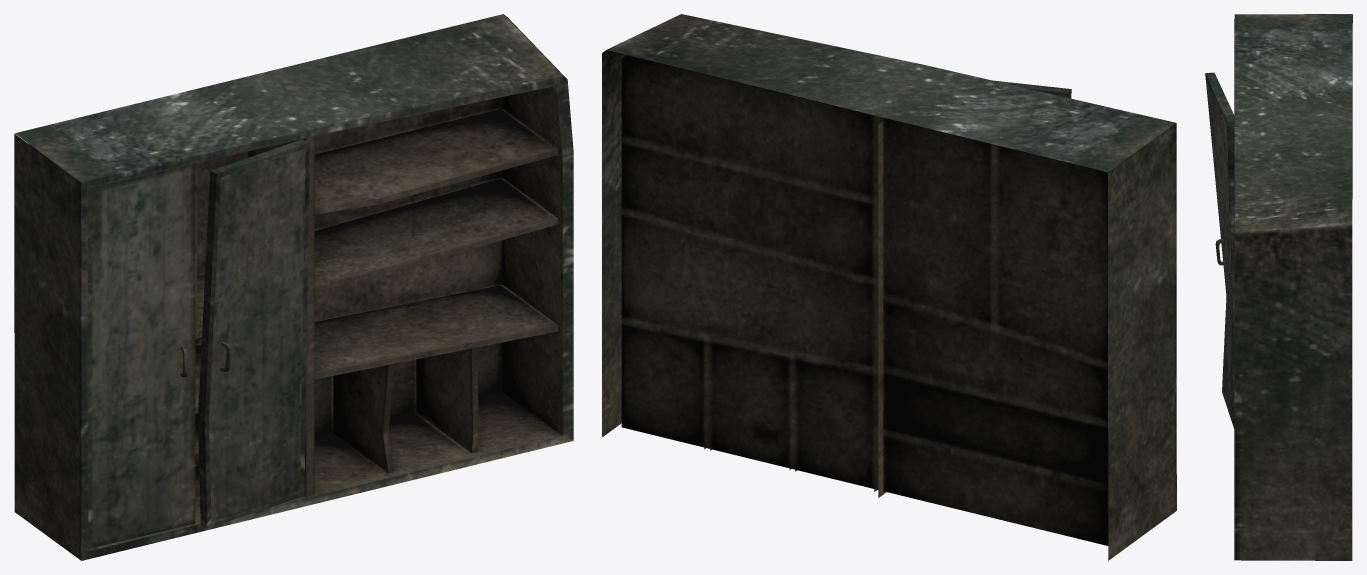
File: Wardrobe_Cabinet.FBX
3 views of the same model, side by side, from view 1: azimuth 30°, elevation 25°; view 2: azimuth 150°, elevation 25°; view 3: azimuth 270°, elevation 25° (orthographic). The views are drawn at different scales.
Parts seen in each view (by area): view 1: Wardrobe_Cabinet, Door_01, Door_02; view 2: Wardrobe_Cabinet; view 3: Wardrobe_Cabinet, Door_02.
Boxes of the visible parts, left/top/right/bottom form: Wardrobe_Cabinet: left=14, top=14, right=573, bottom=560; Door_01: left=88, top=163, right=195, bottom=548; Door_02: left=198, top=139, right=309, bottom=527; Wardrobe_Cabinet: left=602, top=14, right=1176, bottom=560; Wardrobe_Cabinet: left=1234, top=14, right=1352, bottom=560; Door_02: left=1205, top=72, right=1234, bottom=428.
Bounding box in the file's own units: 331 × 243 × 97.27.
